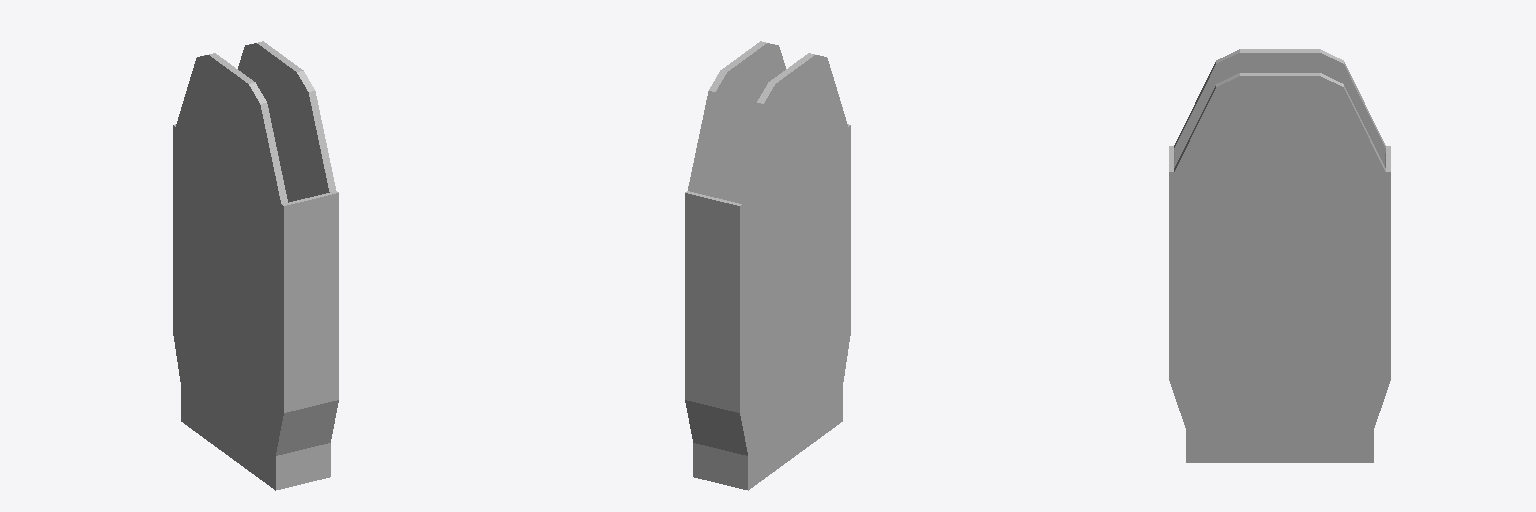
Rendered from umbrellastandtest.obj.
3 renders of one model, left to right at view 1: azimuth 30°, elevation 25°; view 2: azimuth 150°, elevation 25°; view 3: azimuth 270°, elevation 25°, orthographic.
Visible parts, largest first — view 1: pCube1; view 2: pCube1; view 3: pCube1.
Part boxes in pixels (left/top/right/bottom): pCube1: left=173, top=41, right=338, bottom=490; pCube1: left=685, top=41, right=850, bottom=490; pCube1: left=1169, top=49, right=1390, bottom=462.
Bounding box in the file's own units: 0.1763 × 1.18 × 0.6155.